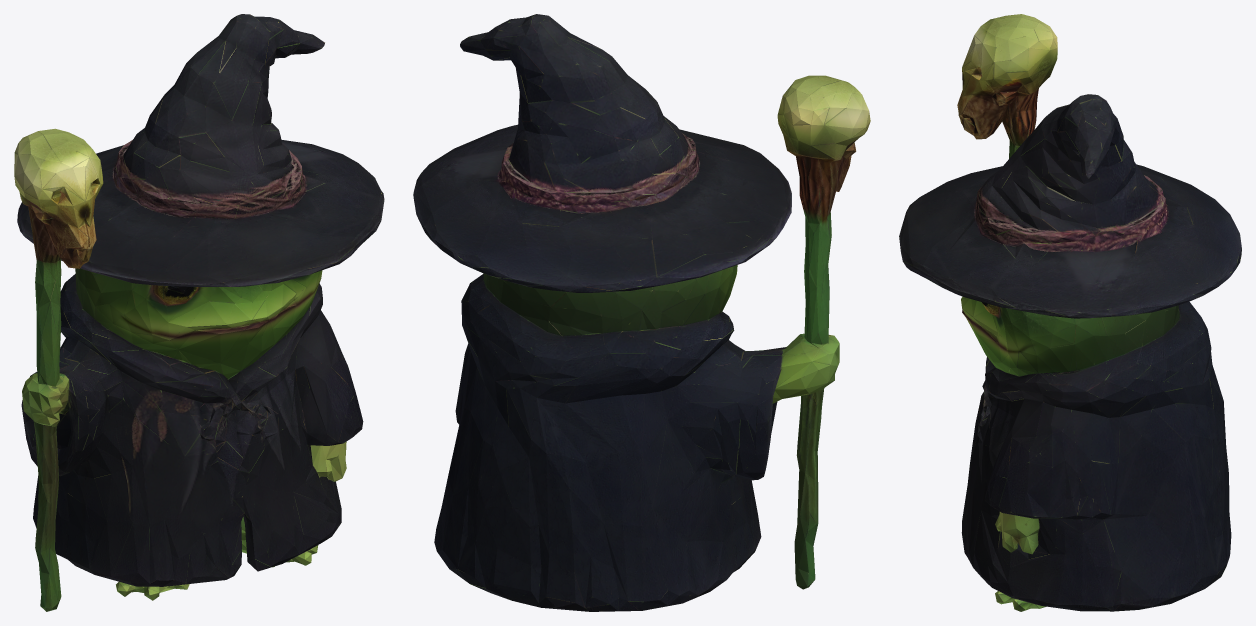
The model's file is sempai.glb.
3 views of the same model, side by side, from view 1: azimuth 30°, elevation 25°; view 2: azimuth 150°, elevation 25°; view 3: azimuth 270°, elevation 25° (orthographic). The views are drawn at different scales.
Bounding box in the file's own units: 1.53 × 2 × 1.24.
Materials: 1 (1 with a texture image).
